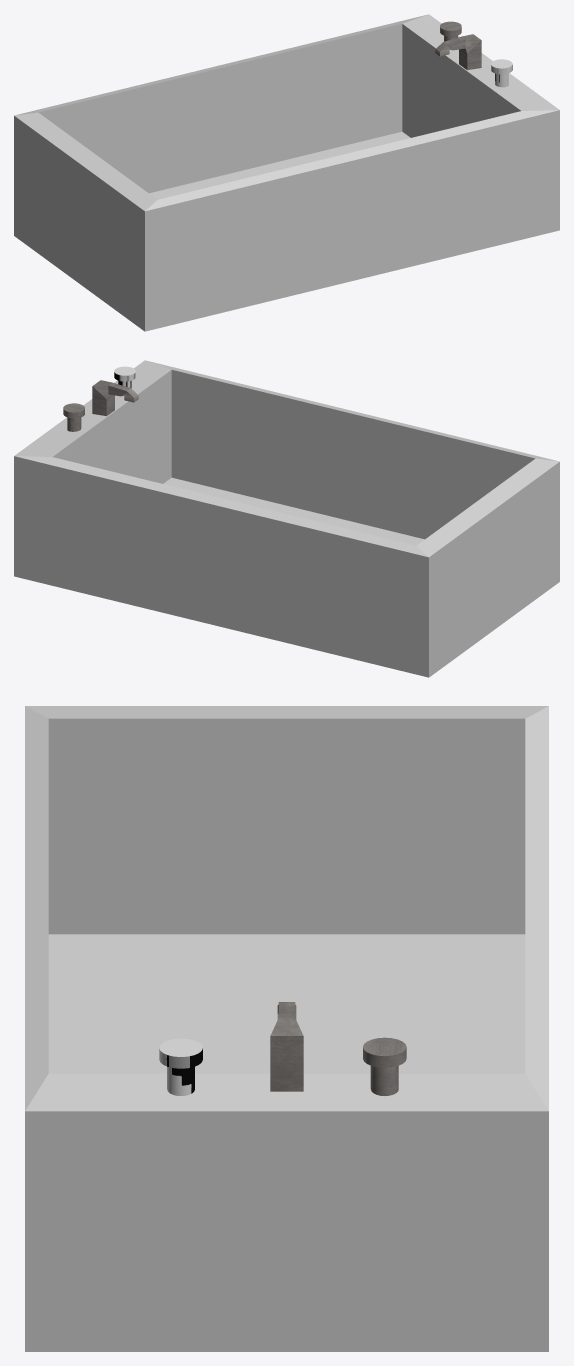
Rendered from Bañera.fbx.
The picture shows the model from 3 angles, top to bottom: view 1: azimuth 30°, elevation 25°; view 2: azimuth 150°, elevation 25°; view 3: azimuth 270°, elevation 25°; orthographic projection. The views are drawn at different scales.
Visible parts, largest first — view 1: bañera; view 2: bañera; view 3: bañera.
Part boxes in pixels (x1=…): bañera: x1=14, y1=14, x2=559, y2=331; bañera: x1=14, y1=360, x2=559, y2=677; bañera: x1=25, y1=706, x2=548, y2=1351.
Bounding box in the file's own units: 7.22 × 2.53 × 3.95.
